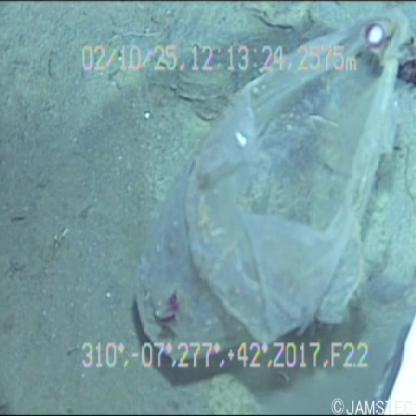Rác: (127, 10, 408, 374)
